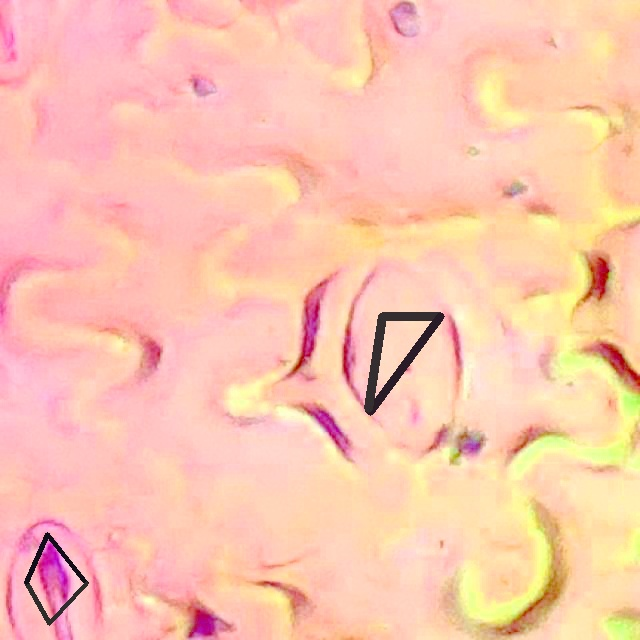close: (364, 312, 444, 415)
open: (24, 532, 88, 625)
